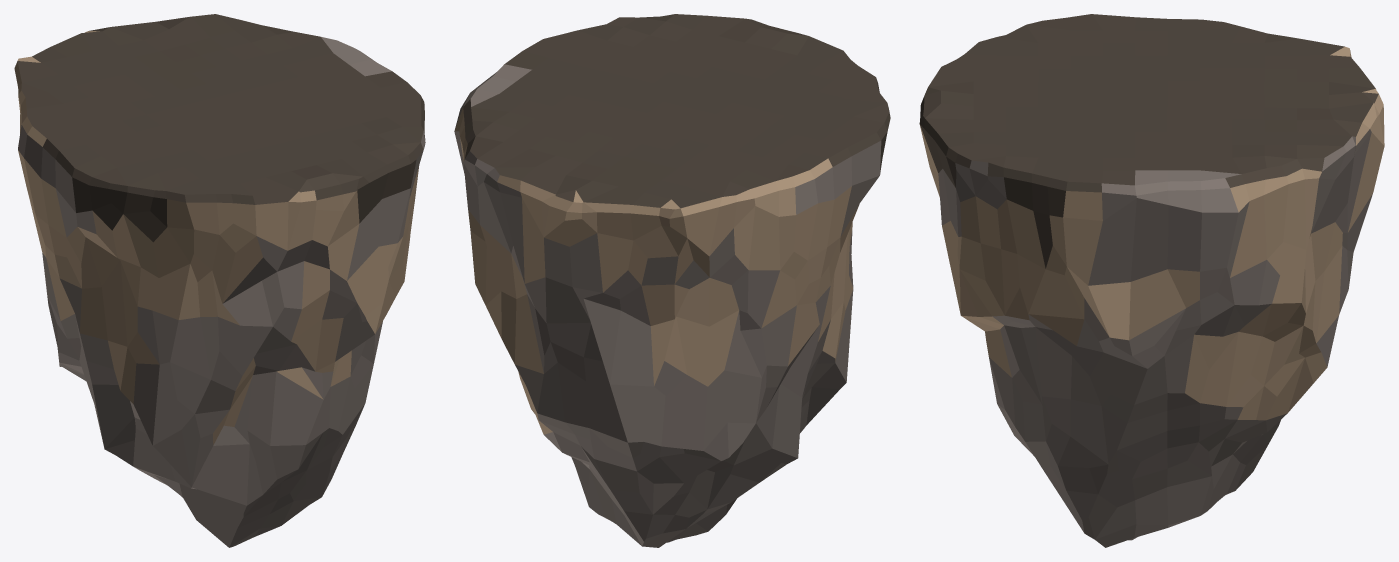
Rendered from Medium_Island_1.fbx.
The picture shows the model from 3 angles, left to right: view 1: azimuth 30°, elevation 25°; view 2: azimuth 150°, elevation 25°; view 3: azimuth 270°, elevation 25°; orthographic projection. The views are drawn at different scales.
Visible parts, largest first — view 1: Icosphere; view 2: Icosphere; view 3: Icosphere.
Part boxes in pixels (x1,y1,x2,y2): Icosphere: (14, 14, 425, 547); Icosphere: (454, 14, 890, 547); Icosphere: (919, 14, 1384, 547).
Size of the model in its own units: 2.94 by 3.42 by 3.27.
